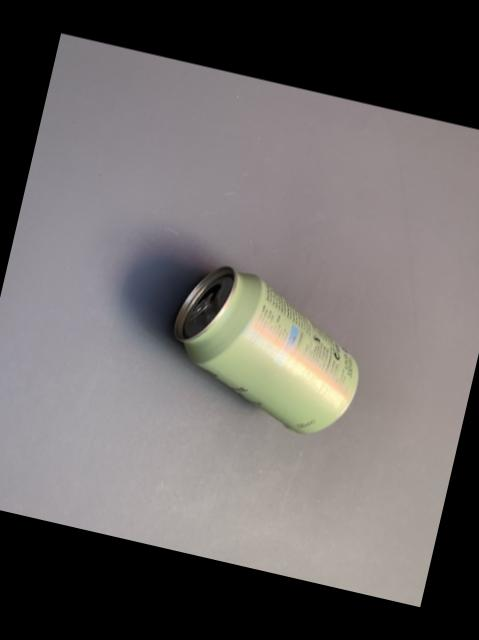metal: (174, 265, 357, 432)
